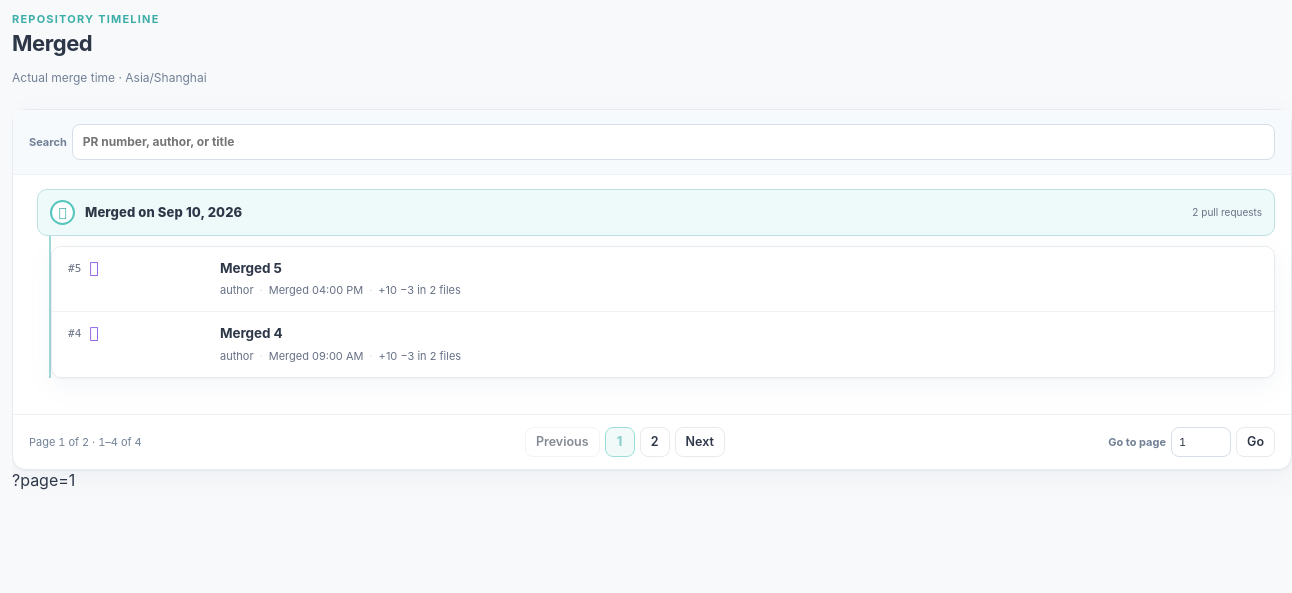
MergedPage › groups current-page mergedAt values by configured timezone and uses page pagination
The width and height of the screenshot is (1292, 593).
Expected: the heading "Merged" is shown, [12,30,92,56]
Expected: the heading "Merged 5" is shown, [220,258,282,278]
Click the button named "Go to page 2" at (655, 442), box [640,426,670,456]
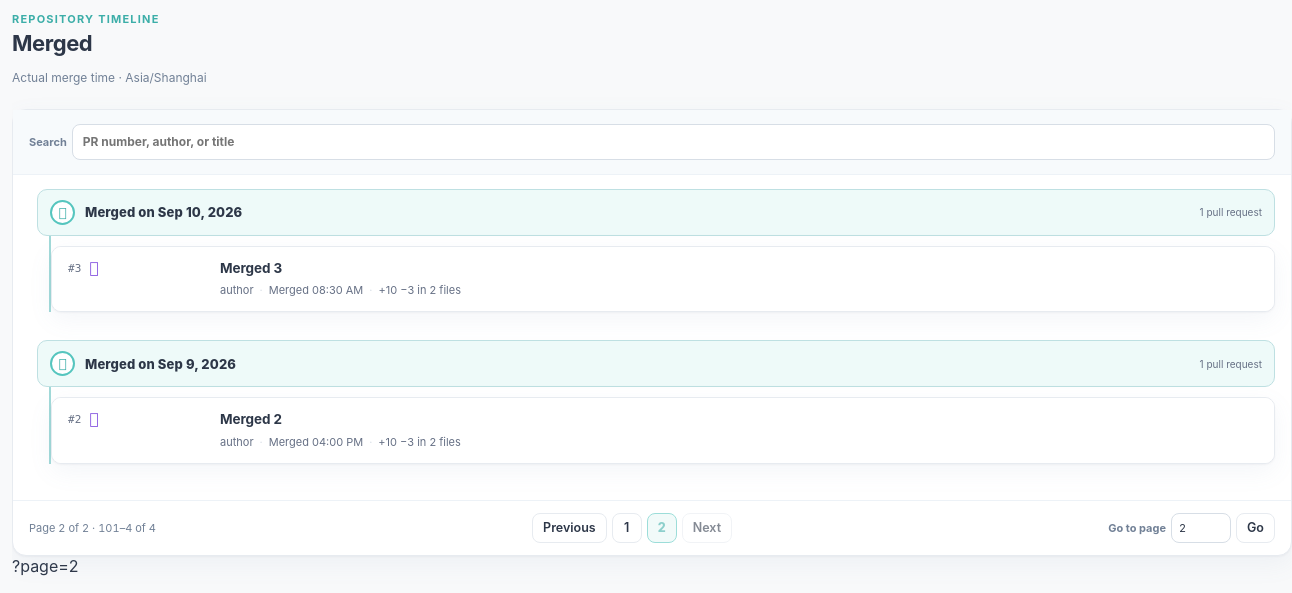
Expected: the heading "Merged 2" is shown, [220,410,282,430]
Expected: the heading "Merged on Sep 9, 2026" is shown, [85,356,236,372]
Expected: the link "Merged 5" is gone
